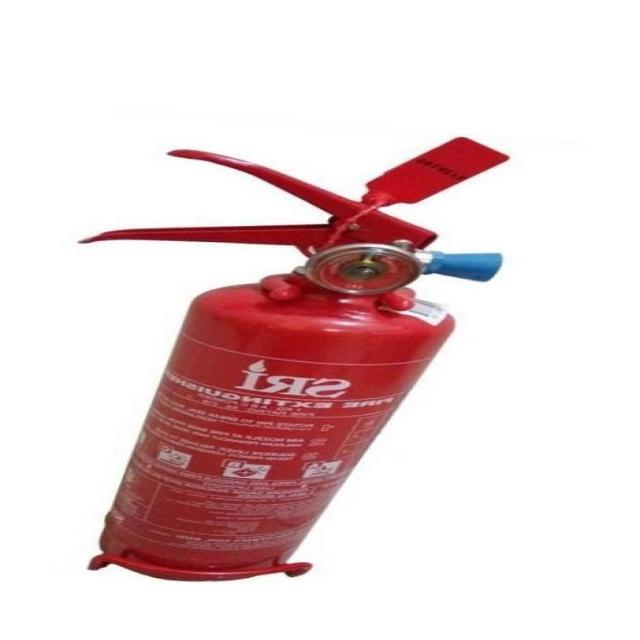fire_extinguisher: (65, 133, 522, 583)
